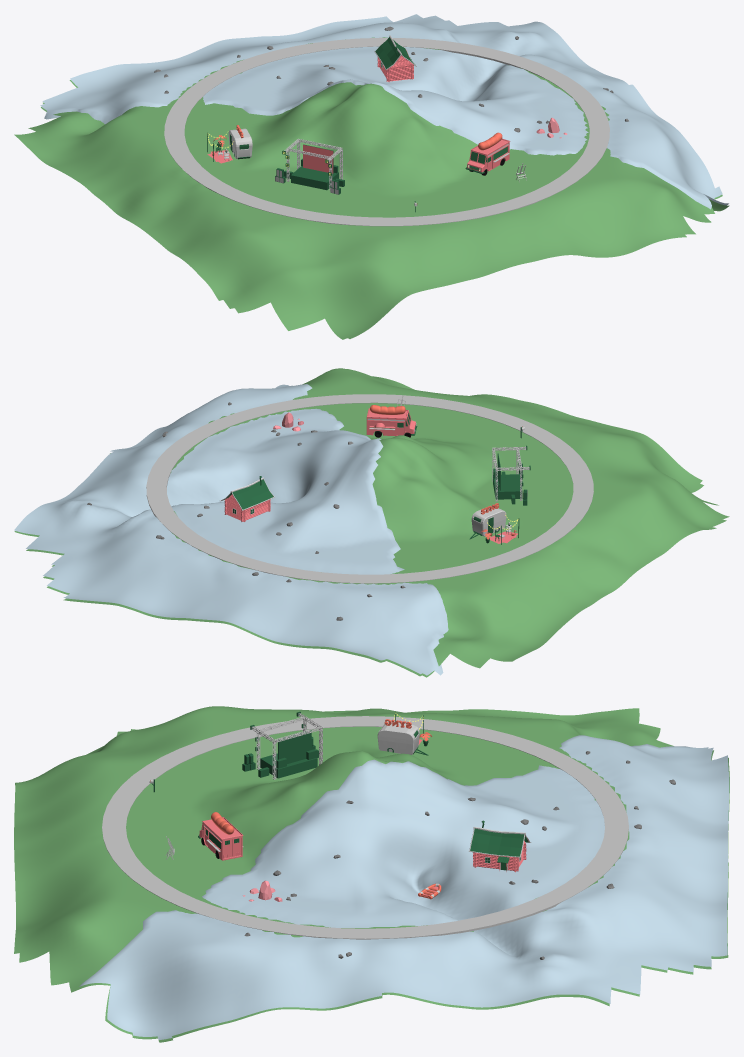
The model's file is island.glb.
The picture shows the model from 3 angles, top to bottom: view 1: azimuth 30°, elevation 25°; view 2: azimuth 150°, elevation 25°; view 3: azimuth 270°, elevation 25°; orthographic projection. The views are drawn at different scales.
Visible parts, largest first — view 1: Landscape, Snow, Street, Cabin_shed, STAGEmodul_Cube, TRUCK_Cube001, Philips_PM5544_(SECAM_variation), Camper1_Mesh006; view 2: Snow, Landscape, Street, Cabin_shed, TRUCK_Cube001, Camper1_Mesh006, STAGEmodul_Cube; view 3: Snow, Landscape, Street, Cabin_shed, Camper1_Mesh006, TRUCK_Cube001, Philips_PM5544_(SECAM_variation), STAGEmodul_Cube.
Part boxes in pixels (bbox=[...]): Landscape: bbox=[14, 37, 729, 339]; Snow: bbox=[40, 14, 728, 209]; Street: bbox=[164, 37, 609, 226]; Cabin_shed: bbox=[374, 35, 416, 82]; STAGEmodul_Cube: bbox=[291, 166, 338, 190]; TRUCK_Cube001: bbox=[467, 138, 510, 172]; Philips_PM5544_(SECAM_variation): bbox=[303, 144, 333, 173]; Camper1_Mesh006: bbox=[228, 128, 252, 159]; Snow: bbox=[14, 384, 448, 675]; Landscape: bbox=[14, 368, 729, 677]; Street: bbox=[146, 394, 593, 583]; Cabin_shed: bbox=[220, 476, 274, 521]; TRUCK_Cube001: bbox=[366, 408, 415, 436]; Camper1_Mesh006: bbox=[469, 506, 506, 539]; STAGEmodul_Cube: bbox=[493, 474, 522, 499]; Snow: bbox=[79, 735, 729, 1039]; Landscape: bbox=[14, 706, 729, 1042]; Street: bbox=[102, 716, 628, 939]; Cabin_shed: bbox=[468, 820, 531, 872]; Camper1_Mesh006: bbox=[377, 722, 428, 755]; TRUCK_Cube001: bbox=[199, 817, 243, 860]; Philips_PM5544_(SECAM_variation): bbox=[278, 730, 311, 763]; STAGEmodul_Cube: bbox=[260, 753, 317, 778].
Size of what is drawn, in the model's own units: 32.57 by 7.12 by 33.47.
